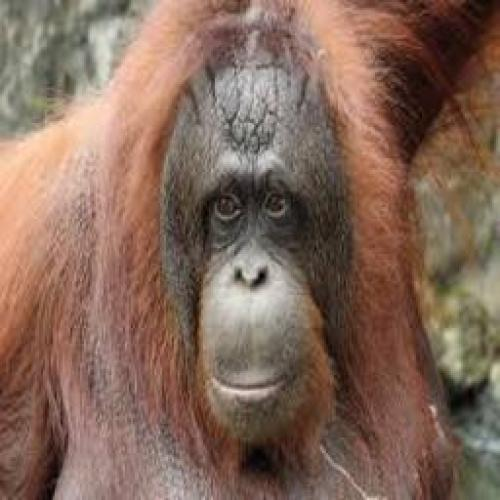orangutan-endangered: (9, 6, 489, 491)
